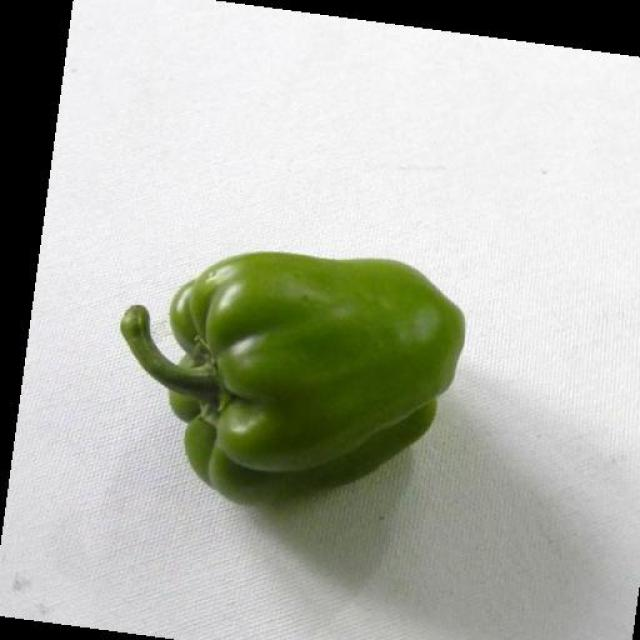Fresh_Capsicum: (124, 222, 475, 518)
